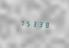eight: (42, 20, 47, 28)
five: (24, 19, 29, 27)
seven: (18, 18, 23, 27)
three: (30, 19, 35, 28), (36, 20, 41, 28)
